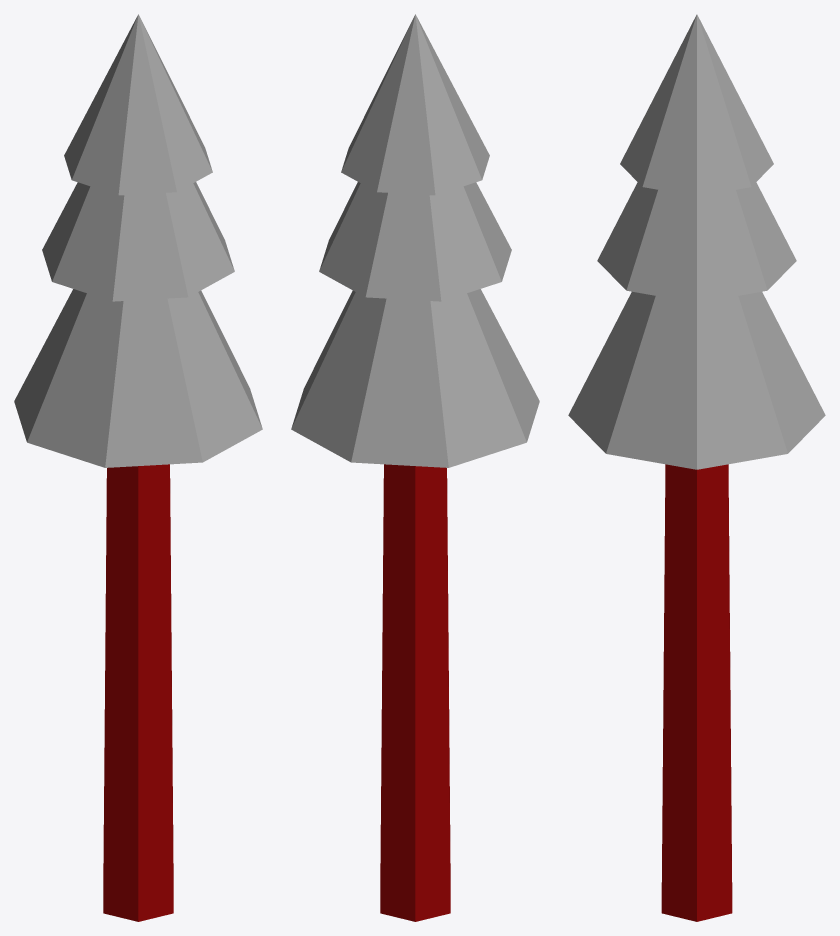
The model's file is Three_1.fbx.
3 renders of one model, left to right at view 1: azimuth 30°, elevation 25°; view 2: azimuth 150°, elevation 25°; view 3: azimuth 270°, elevation 25°, orthographic.
Visible parts, largest first — view 1: group5_pasted__pCylinder1; view 2: group5_pasted__pCylinder1; view 3: group5_pasted__pCylinder1.
Part boxes in pixels (x1,y1,x2,y2): group5_pasted__pCylinder1: (14, 14, 262, 921); group5_pasted__pCylinder1: (291, 14, 539, 921); group5_pasted__pCylinder1: (568, 14, 825, 921).
Bounding box in the file's own units: 4 × 15.26 × 4.
